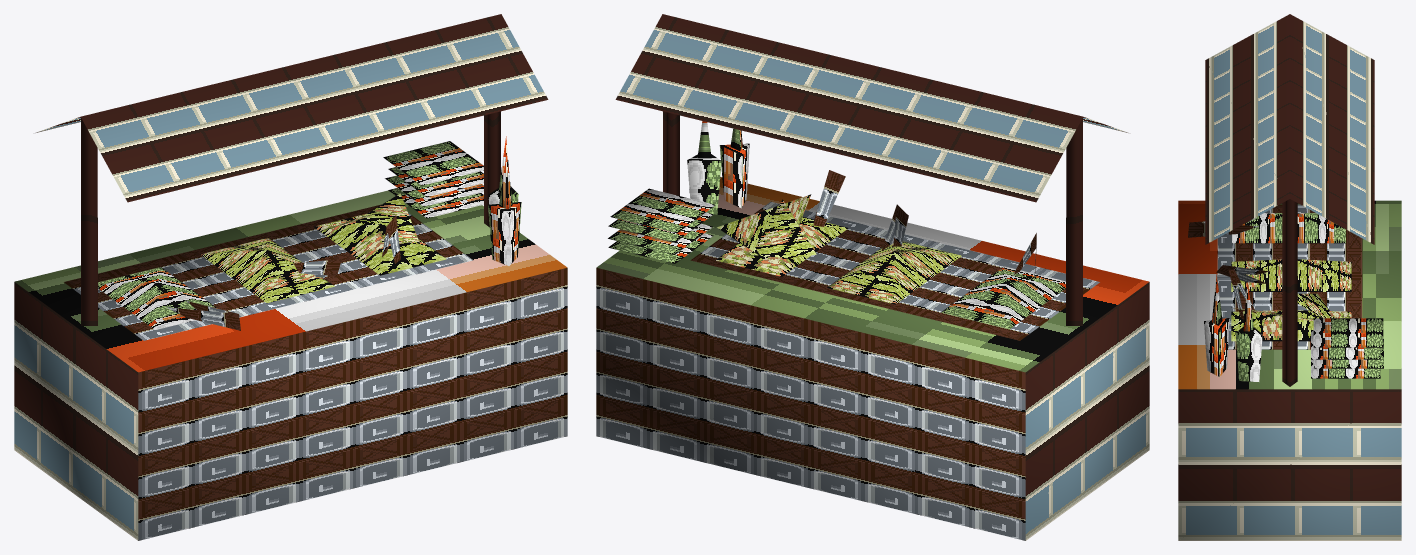
Rendered from 3337IMIG11_06.gltf.
3 views of the same model, side by side, from view 1: azimuth 30°, elevation 25°; view 2: azimuth 150°, elevation 25°; view 3: azimuth 270°, elevation 25° (orthographic). The views are drawn at different scales.
Parts seen in each view (by area): view 1: 3337IMIG11_06; view 2: 3337IMIG11_06; view 3: 3337IMIG11_06.
Boxes of the visible parts, x1,y1,x2,y2 form: 3337IMIG11_06: [14, 14, 567, 540]; 3337IMIG11_06: [596, 14, 1149, 540]; 3337IMIG11_06: [1178, 14, 1401, 540].
Size of the model in its own units: 1.9 by 1.6 by 0.9502.
Materials: 4 (4 with a texture image).
